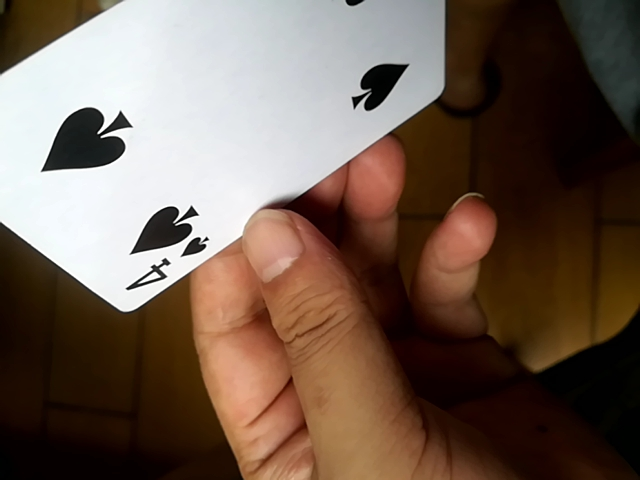ht 4: (2, 0, 451, 318)
